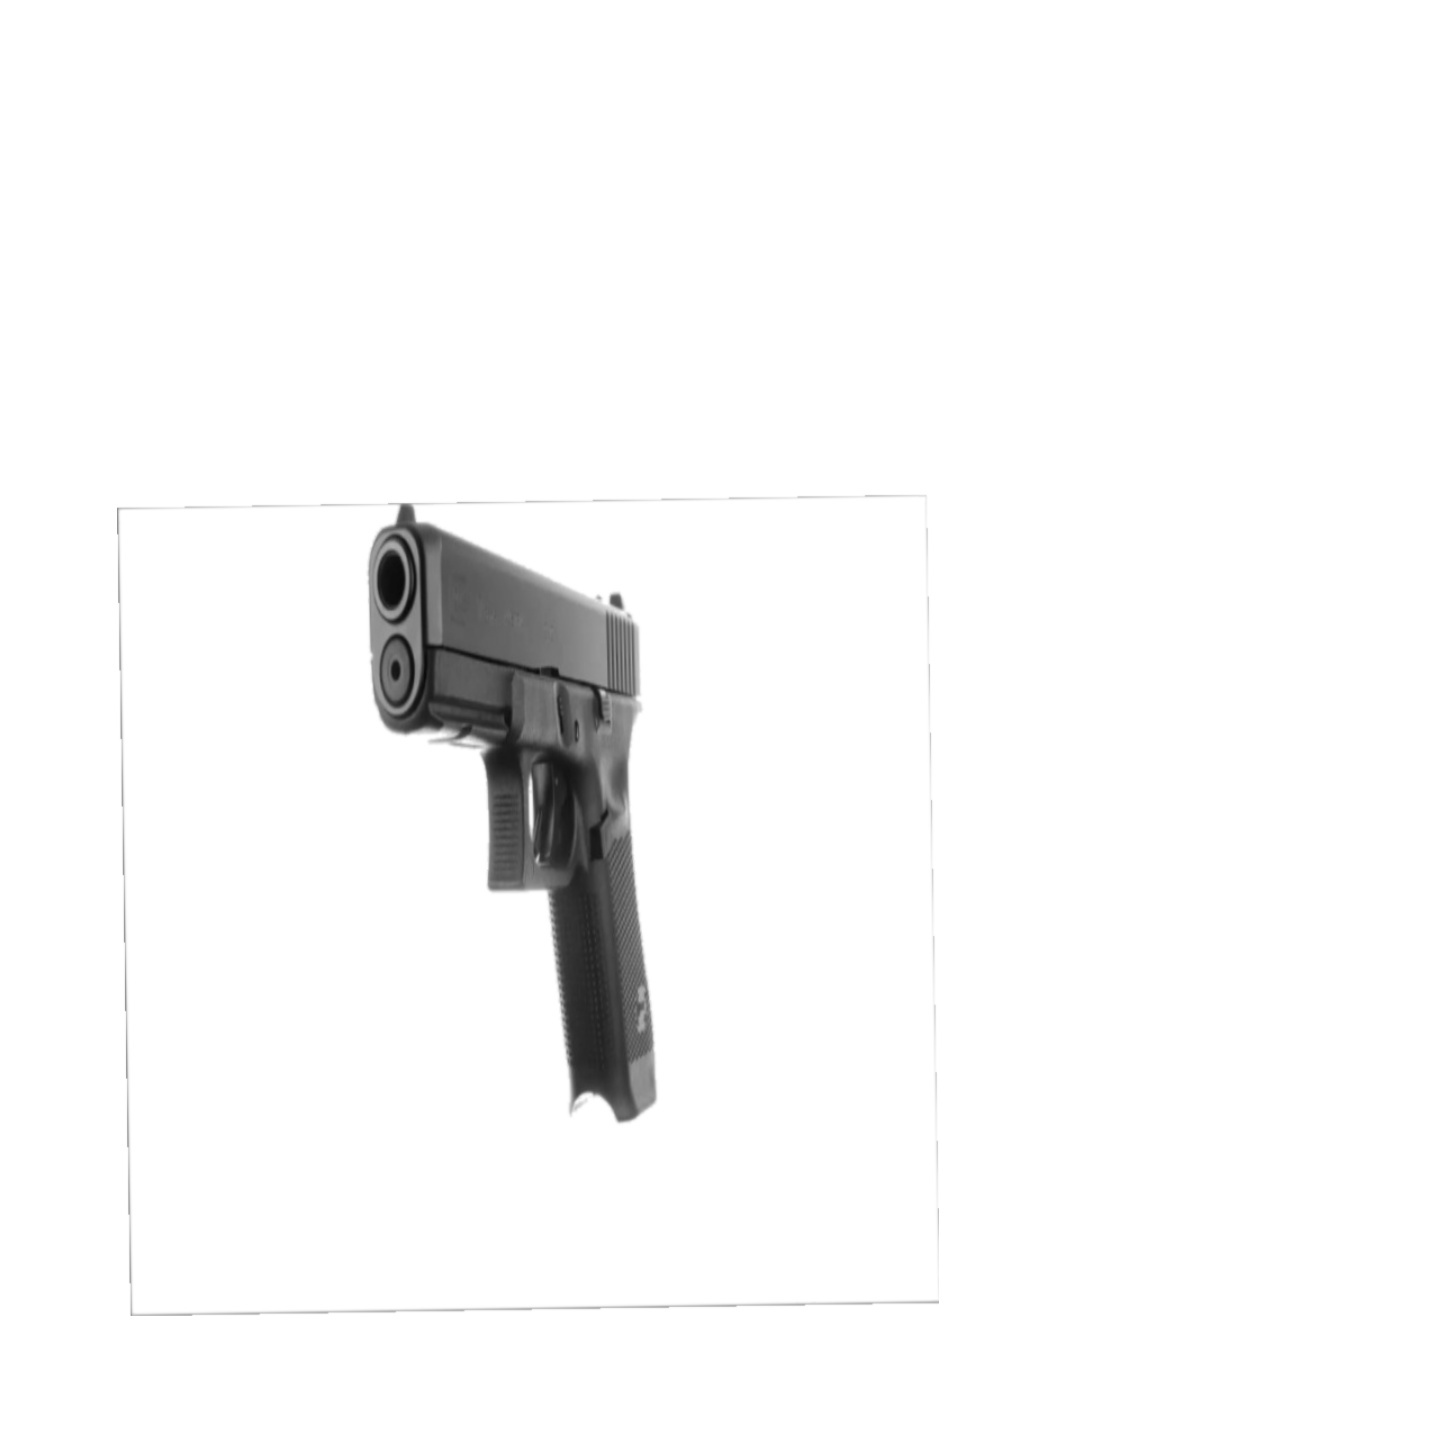gun: (354, 496, 707, 1140)
